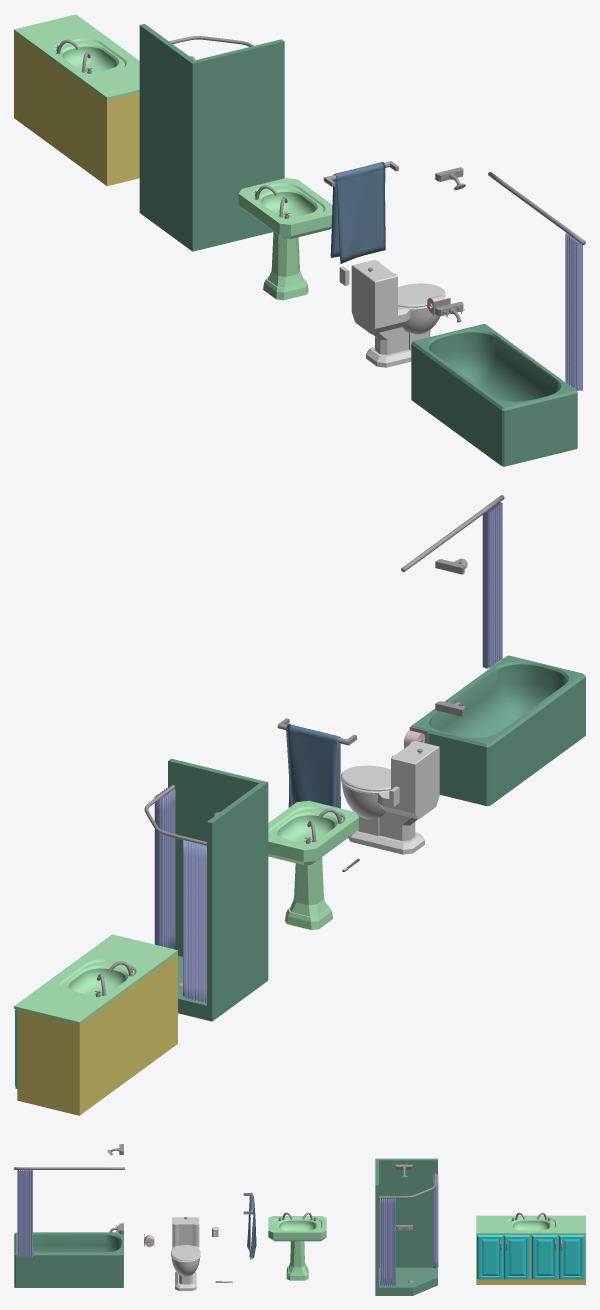
Rendered from BathroomDLC.fbx.
The picture shows the model from 3 angles, top to bottom: view 1: azimuth 30°, elevation 25°; view 2: azimuth 150°, elevation 25°; view 3: azimuth 270°, elevation 25°; orthographic projection. The views are drawn at different scales.
Parts seen in each view (by area): view 1: Shower, BathTubShower, WideSink, Toilet, SmallSink, Towel, ShoweCurtain3, ShowerTap1, ShowerCurtainHolder.001; view 2: WideSink, Shower, BathTubShower, Toilet, SmallSink, Towel, ShoweCurtain1, ShoweCurtain3, ShoweCurtain2; view 3: Shower, BathTubShower, WideSinkDoor1, WideSink, SmallSink, Toilet, ShoweCurtain2, ShoweCurtain3, ShoweCurtain1, Towel, ShowerCurtainHolder.001, ShowerTap2.
Boxes of the visible parts, bbox=[...] form: Shower: bbox=[139, 24, 284, 251]; BathTubShower: bbox=[411, 324, 577, 466]; WideSink: bbox=[14, 14, 139, 186]; Toilet: bbox=[351, 260, 445, 367]; SmallSink: bbox=[238, 178, 332, 300]; Towel: bbox=[330, 162, 385, 263]; ShoweCurtain3: bbox=[565, 233, 582, 390]; ShowerTap1: bbox=[435, 167, 465, 322]; ShowerCurtainHolder.001: bbox=[488, 172, 585, 244]; WideSink: bbox=[14, 934, 177, 1115]; Shower: bbox=[168, 758, 268, 1021]; BathTubShower: bbox=[411, 655, 585, 806]; Toilet: bbox=[341, 741, 439, 854]; SmallSink: bbox=[268, 800, 358, 929]; Towel: bbox=[286, 724, 340, 808]; ShoweCurtain1: bbox=[183, 840, 206, 1002]; ShoweCurtain3: bbox=[482, 502, 502, 668]; ShoweCurtain2: bbox=[154, 788, 175, 948]; Shower: bbox=[375, 1158, 437, 1295]; BathTubShower: bbox=[14, 1232, 123, 1287]; WideSinkDoor1: bbox=[477, 1235, 585, 1279]; WideSink: bbox=[476, 1215, 585, 1284]; SmallSink: bbox=[268, 1216, 326, 1280]; Toilet: bbox=[171, 1217, 200, 1290]; ShoweCurtain2: bbox=[380, 1198, 395, 1285]; ShoweCurtain3: bbox=[17, 1170, 32, 1257]; ShoweCurtain1: bbox=[432, 1174, 438, 1268]; Towel: bbox=[247, 1195, 256, 1259]; ShowerCurtainHolder.001: bbox=[14, 1167, 124, 1169]; ShowerTap2: bbox=[395, 1164, 412, 1231].
Bounding box in the file's own units: 98.06 × 225 × 870.
